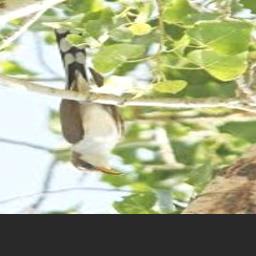Cuckoo: (54, 26, 126, 175)
